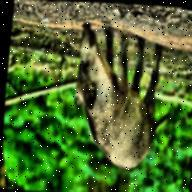boar: (65, 22, 171, 170)
